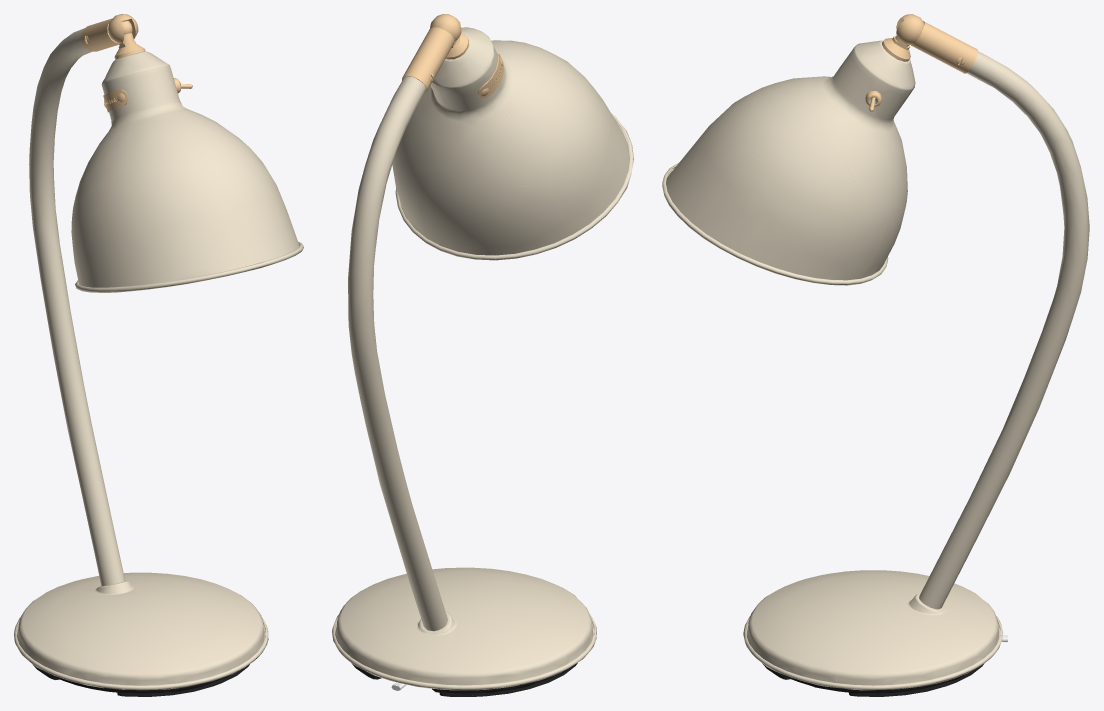
The picture shows the model from 3 angles, left to right: view 1: azimuth 30°, elevation 25°; view 2: azimuth 150°, elevation 25°; view 3: azimuth 270°, elevation 25°; orthographic projection. The views are drawn at different scales.
Parts seen in each view (by area): view 1: ASY_ART_80583923_S01_NV01; view 2: ASY_ART_80583923_S01_NV01; view 3: ASY_ART_80583923_S01_NV01.
Part boxes in pixels (bbox=[...]): ASY_ART_80583923_S01_NV01: bbox=[14, 14, 303, 696]; ASY_ART_80583923_S01_NV01: bbox=[332, 14, 633, 696]; ASY_ART_80583923_S01_NV01: bbox=[662, 14, 1089, 696].
Size of the model in its own units: 0.1598 by 0.429 by 0.2631.
1 material, 1 textured.
